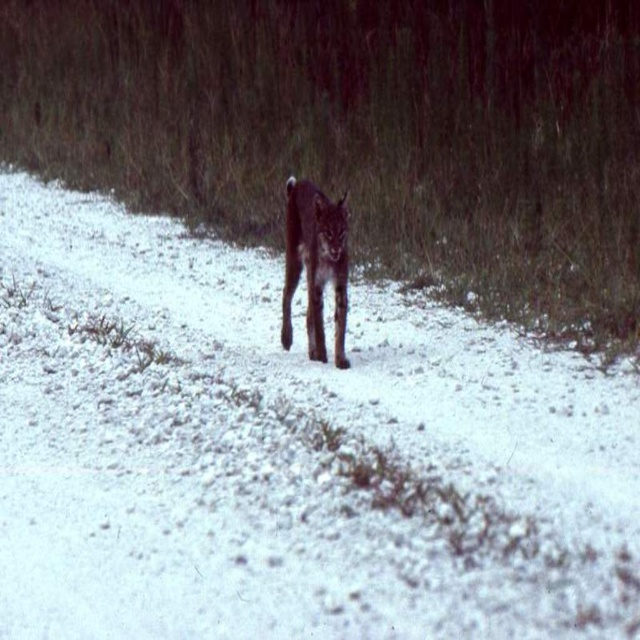Lynx: (278, 173, 351, 373)
